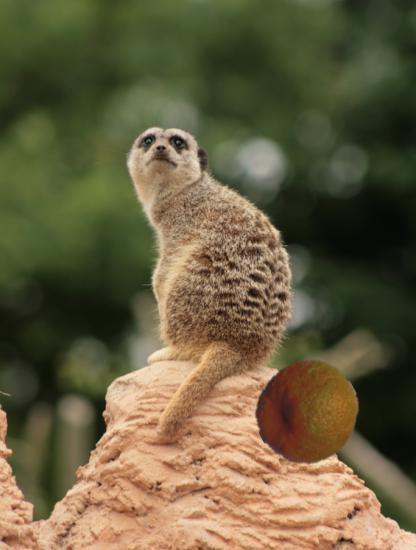Mandarine: (255, 360, 360, 465)
